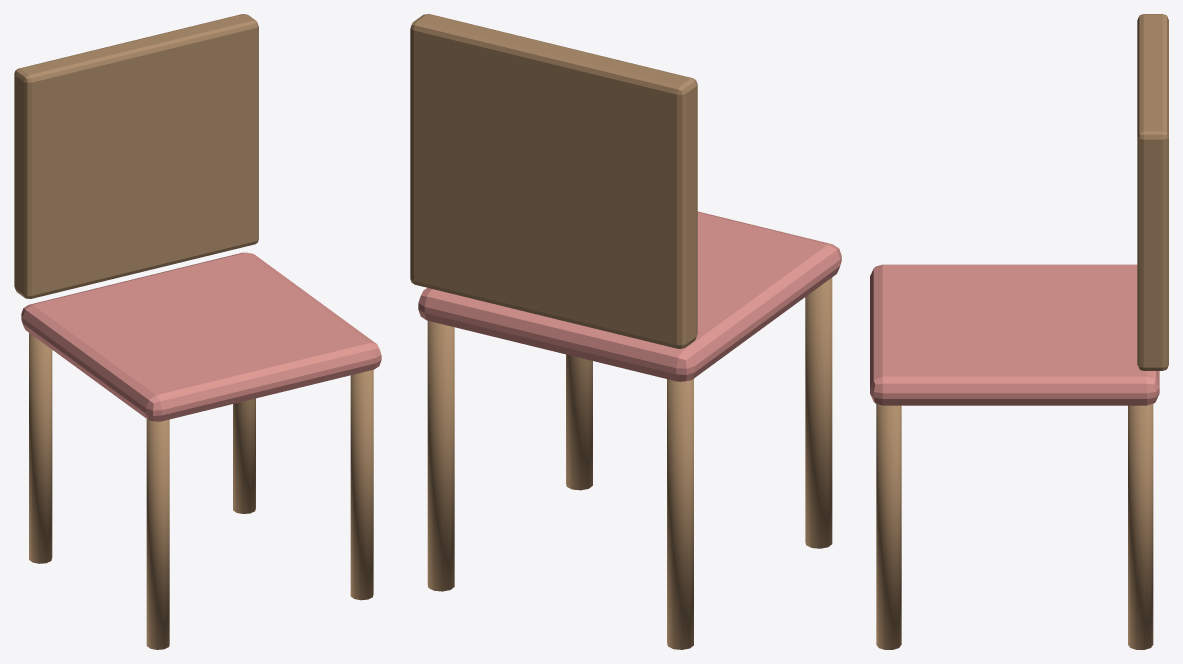
File: cadeira.glb
The picture shows the model from 3 angles, left to right: view 1: azimuth 30°, elevation 25°; view 2: azimuth 150°, elevation 25°; view 3: azimuth 270°, elevation 25°; orthographic projection. The views are drawn at different scales.
Visible parts, largest first — view 1: Encosto, Assento, Perna, Perna.002, Perna.001, Perna.003; view 2: Encosto, Assento, Perna.003, Perna, Perna.001, Perna.002; view 3: Assento, Encosto, Perna.002, Perna.003.
Part boxes in pixels (box(x1,y1,x2,y2)): Encosto: box(14, 14, 258, 298); Assento: box(21, 252, 381, 421); Perna: box(146, 419, 169, 649); Perna.002: box(350, 370, 373, 600); Perna.001: box(29, 333, 52, 563); Perna.003: box(233, 398, 255, 513); Encosto: box(410, 14, 697, 348); Assento: box(418, 211, 841, 381); Perna.003: box(427, 321, 454, 591); Perna: box(805, 277, 832, 548); Perna.001: box(667, 379, 693, 649); Perna.002: box(566, 354, 592, 490); Assento: box(870, 264, 1159, 405); Encosto: box(1137, 14, 1168, 370); Perna.002: box(876, 404, 901, 649); Perna.003: box(1128, 404, 1153, 649).
Bounding box in the file's own units: 0.46 × 0.91 × 0.475.
